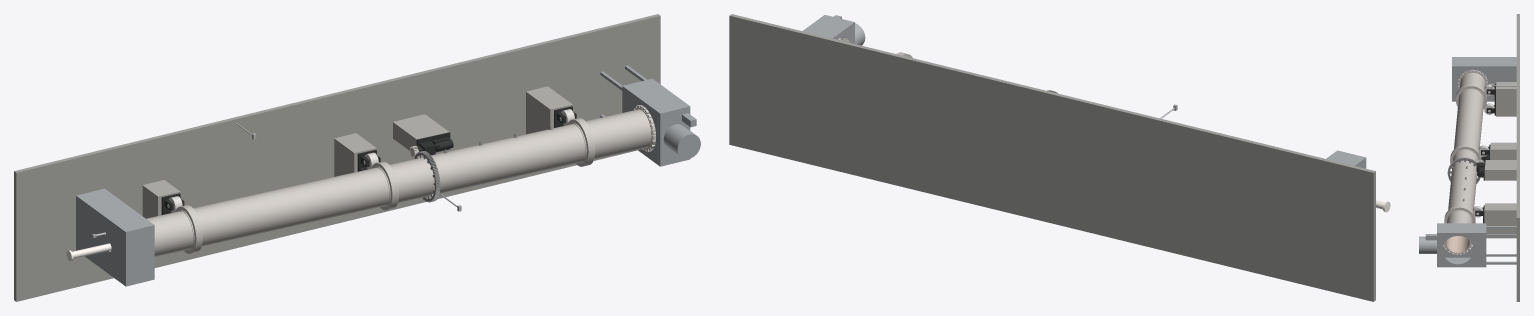
The model's file is kiln.glb.
3 renders of one model, left to right at view 1: azimuth 30°, elevation 25°; view 2: azimuth 150°, elevation 25°; view 3: azimuth 270°, elevation 25°, orthographic. The views are drawn at different scales.
Visible parts, largest first — view 1: ground_slab-1, kiln_shell-1, kiln_hood-1, smoke_chamber-1, pier_3-1, pier_2-1, drive_pier-1, pier_1-1, drive_housing-1, tyre-2, tyre-3, tyre-1 (+1 smaller); view 2: ground_slab-1, smoke_chamber-1; view 3: kiln_shell-1, smoke_chamber-1, kiln_hood-1, ground_slab-1, pier_3-1, pier_1-1, drive_pier-1, pier_2-1, ref_inlet-1, tyre-1, girth_gear-1, tyre-3 (+6 smaller).
Part boxes in pixels (bbox=[...]): ground_slab-1: bbox=[14, 14, 660, 301]; kiln_shell-1: bbox=[146, 109, 655, 256]; kiln_hood-1: bbox=[76, 188, 154, 286]; smoke_chamber-1: bbox=[600, 65, 700, 166]; pier_3-1: bbox=[526, 86, 572, 134]; pier_2-1: bbox=[334, 133, 376, 176]; drive_pier-1: bbox=[393, 114, 449, 150]; pier_1-1: bbox=[142, 180, 180, 218]; drive_housing-1: bbox=[416, 132, 453, 155]; tyre-2: bbox=[371, 161, 398, 210]; tyre-3: bbox=[567, 118, 595, 166]; tyre-1: bbox=[175, 205, 202, 253]; ground_slab-1: bbox=[729, 14, 1375, 301]; smoke_chamber-1: bbox=[802, 15, 865, 45]; kiln_shell-1: bbox=[1445, 70, 1485, 254]; smoke_chamber-1: bbox=[1419, 223, 1516, 267]; kiln_hood-1: bbox=[1452, 57, 1516, 101]; ground_slab-1: bbox=[1516, 14, 1519, 301]; pier_3-1: bbox=[1484, 203, 1516, 238]; pier_1-1: bbox=[1496, 82, 1516, 116]; drive_pier-1: bbox=[1484, 160, 1516, 180]; pier_2-1: bbox=[1490, 142, 1516, 159]; ref_inlet-1: bbox=[1446, 236, 1469, 252]; tyre-1: bbox=[1455, 84, 1487, 109]; girth_gear-1: bbox=[1447, 157, 1480, 183]; tyre-3: bbox=[1444, 205, 1475, 223].
Size of the model in its own units: 94 by 18 by 19.62.
27 materials, 5 textured.
